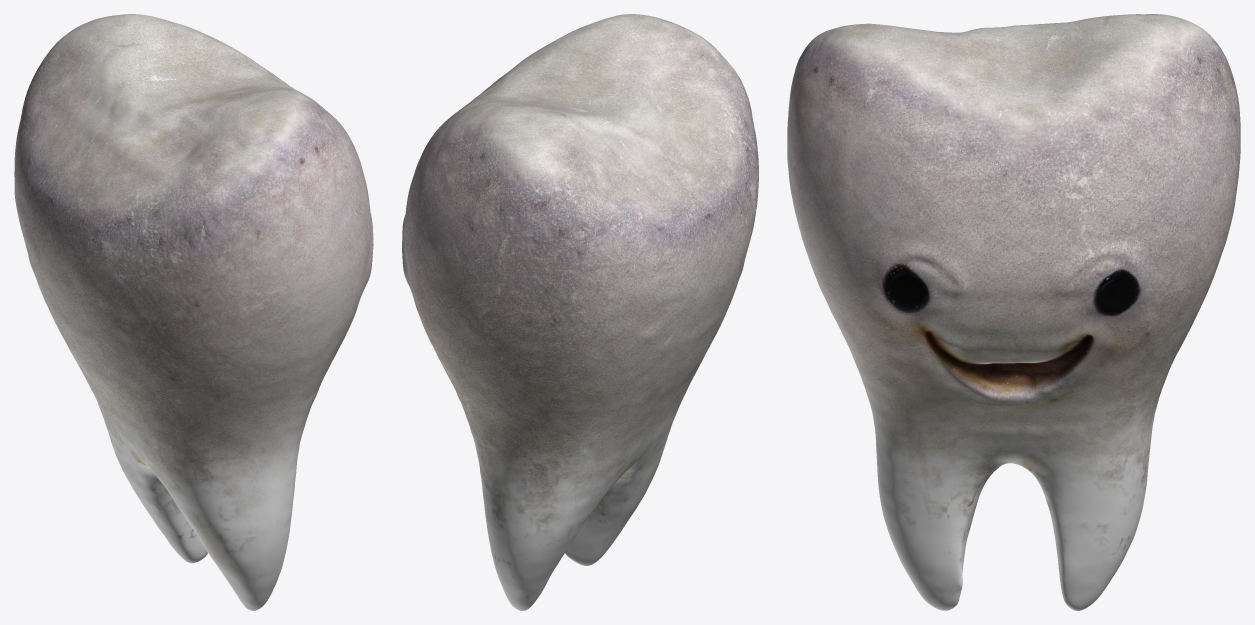
The model's file is toon_smiling_tooth.glb.
The picture shows the model from 3 angles, left to right: view 1: azimuth 30°, elevation 25°; view 2: azimuth 150°, elevation 25°; view 3: azimuth 270°, elevation 25°; orthographic projection. The views are drawn at different scales.
Visible parts, largest first — view 1: model; view 2: model; view 3: model.
Boxes of the visible parts, x1,y1,x2,y2 form: model: (14, 14, 373, 610); model: (402, 14, 758, 610); model: (787, 14, 1240, 610).
Size of the model in its own units: 0.951 by 1.69 by 1.22.
Materials: 1 (1 with a texture image).
